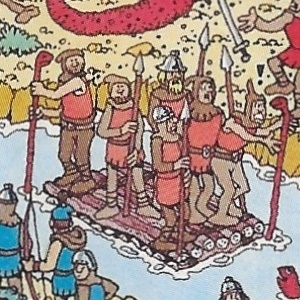Wizard Whitebeard: (130, 104, 170, 195)
